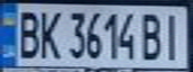1: (103, 9, 121, 60)
3: (63, 8, 87, 60)
4: (118, 9, 142, 61)
6: (84, 8, 106, 60)
B: (12, 7, 42, 60), (139, 9, 166, 61)
I: (157, 10, 187, 61)
K: (36, 7, 63, 60)
